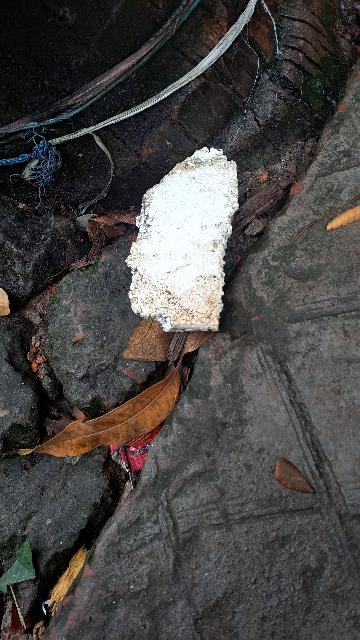cocksheet: (124, 121, 277, 377)
